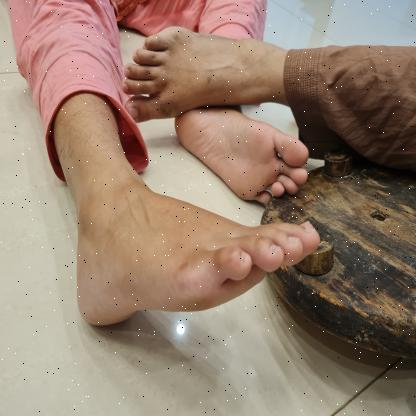leg: (64, 173, 326, 335), (119, 17, 284, 128), (172, 108, 311, 209)
